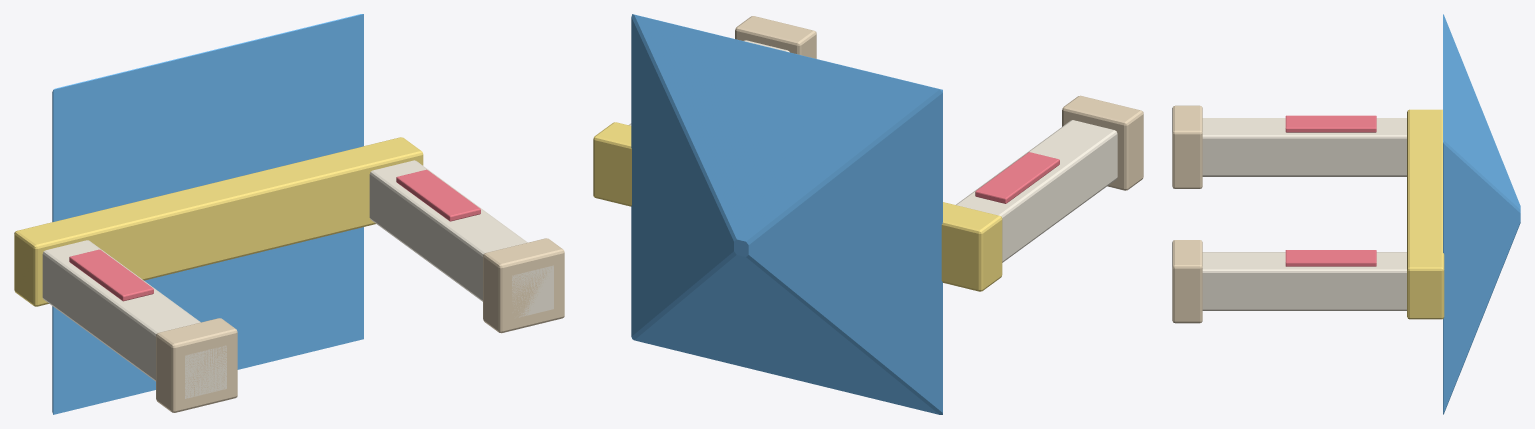
File: Env_CastleArchway.fbx
The picture shows the model from 3 angles, left to right: view 1: azimuth 30°, elevation 25°; view 2: azimuth 150°, elevation 25°; view 3: azimuth 270°, elevation 25°; orthographic projection. The views are drawn at different scales.
Parts seen in each view (by area): view 1: RoofTop, LintleBeam, ColLeft, ColRight, PlinthR, PlinthL, BannerL, BannerR; view 2: RoofTop, ColLeft, LintleBeam, PlinthL, PlinthR, BannerL; view 3: RoofTop, ColLeft, ColRight, LintleBeam, PlinthL, PlinthR, BannerL, BannerR.
Boxes of the visible parts, left/top/right/bottom form: RoofTop: left=52, top=14, right=363, bottom=414; LintleBeam: left=14, top=137, right=423, bottom=306; ColLeft: left=42, top=240, right=226, bottom=398; ColRight: left=369, top=160, right=553, bottom=317; PlinthR: left=483, top=238, right=564, bottom=333; PlinthL: left=156, top=318, right=237, bottom=412; BannerL: left=69, top=249, right=153, bottom=301; BannerR: left=396, top=169, right=480, bottom=221; RoofTop: left=631, top=14, right=942, bottom=414; ColLeft: left=956, top=120, right=1117, bottom=262; LintleBeam: left=593, top=122, right=1002, bottom=291; PlinthL: left=1062, top=95, right=1143, bottom=190; PlinthR: left=735, top=16, right=816, bottom=58; BannerL: left=975, top=152, right=1059, bottom=203; RoofTop: left=1443, top=14, right=1520, bottom=414; ColLeft: left=1202, top=118, right=1406, bottom=176; ColRight: left=1202, top=252, right=1406, bottom=310; LintleBeam: left=1407, top=109, right=1444, bottom=319; PlinthL: left=1172, top=105, right=1202, bottom=188; PlinthR: left=1172, top=240, right=1202, bottom=323; BannerL: left=1285, top=115, right=1376, bottom=132; BannerR: left=1285, top=250, right=1376, bottom=266.
Bounding box in the file's own units: 5.65 × 4.47 × 5.15.
